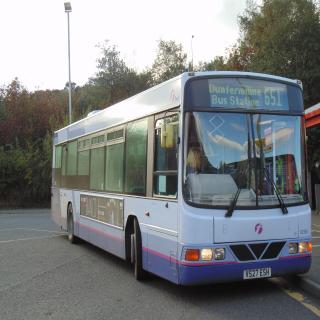bus: (51, 70, 312, 284)
